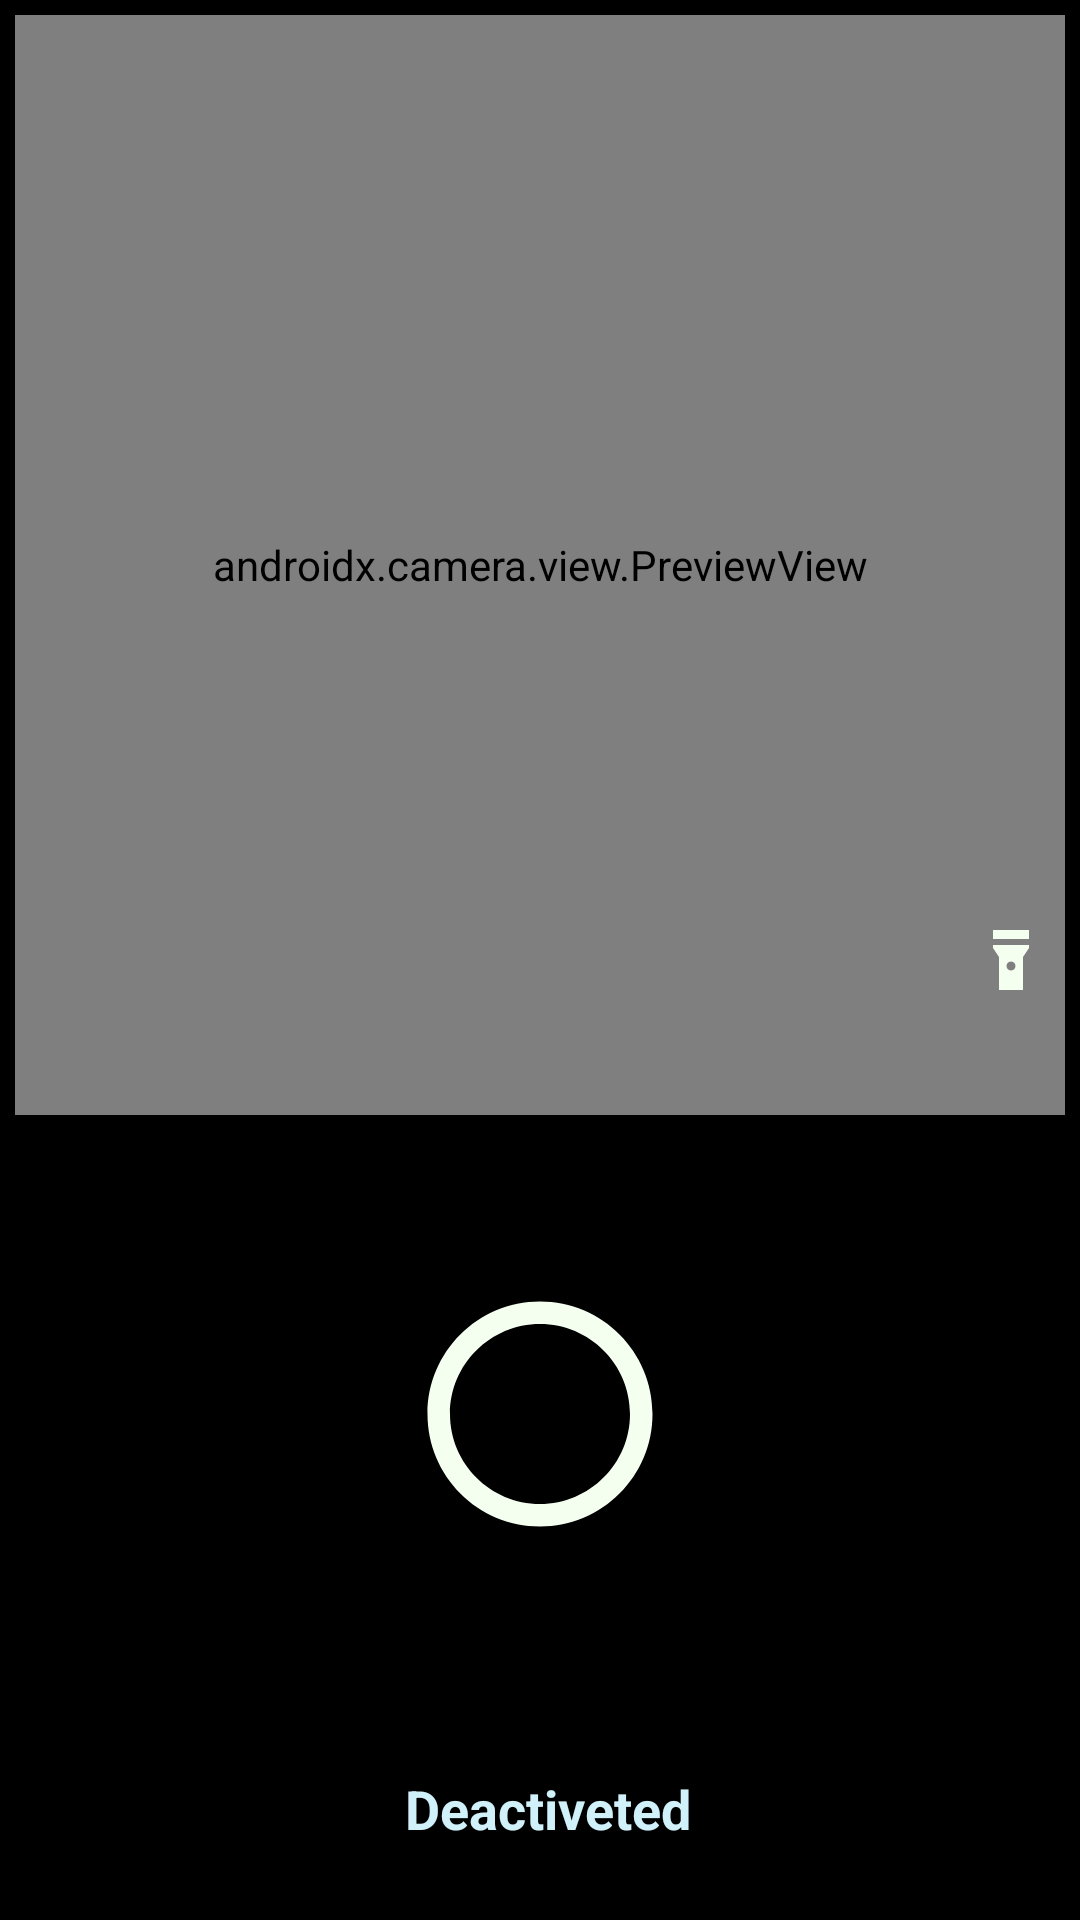

Icon click points for this 1080×1920 phone screenshot, format [x,y]:
flashlight on: [1011,960]
panorama fish eye: [540,1414]
